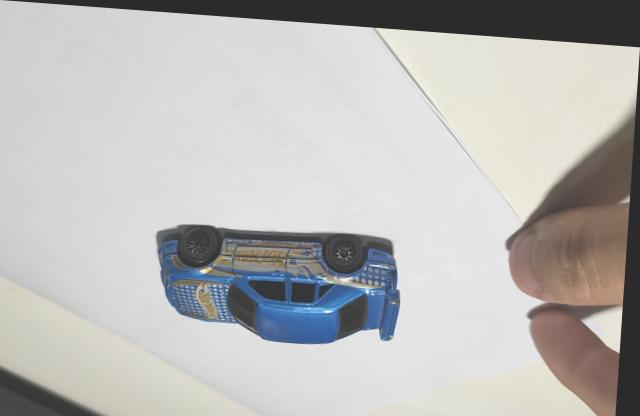04_MERZEDES: (158, 220, 404, 339)
